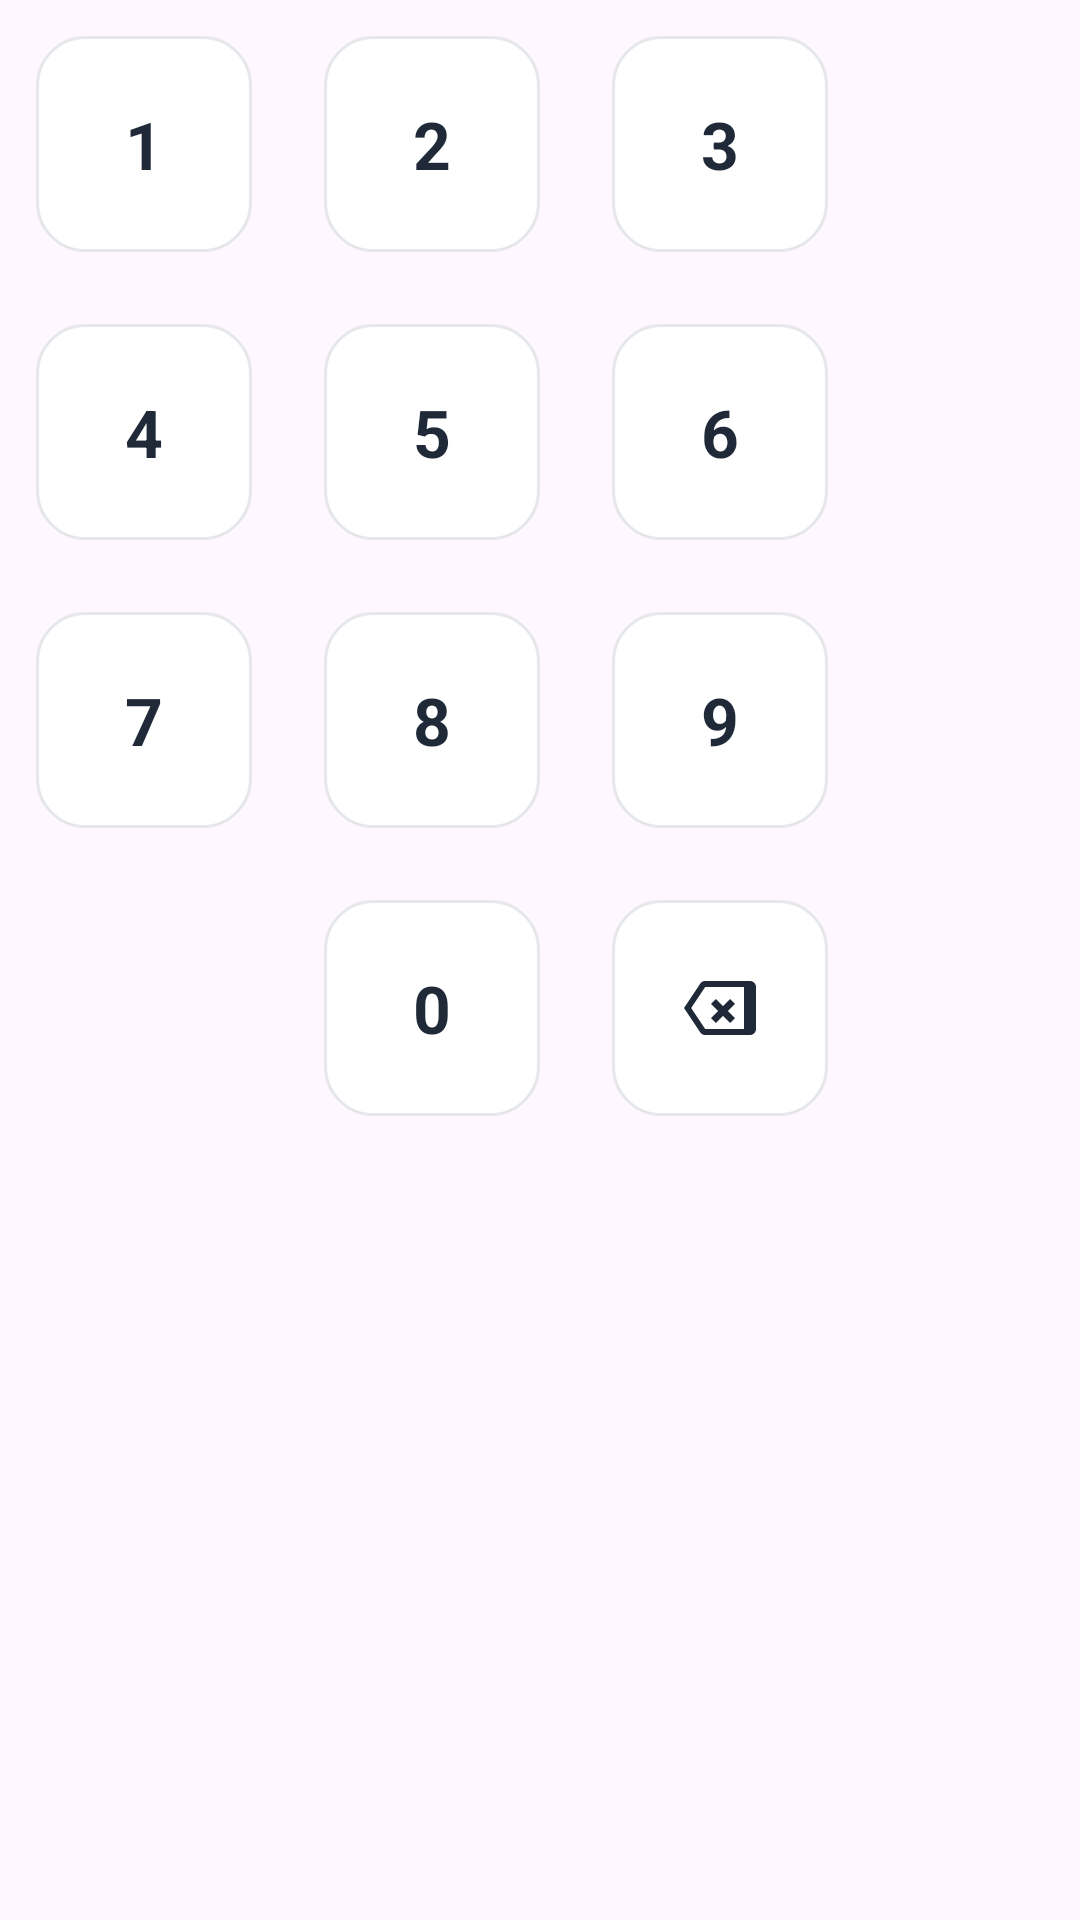

Where to tap for icons on this 1080px x 1920px app screen, as (x=x, y=y):
delete: (x=720, y=1008)
